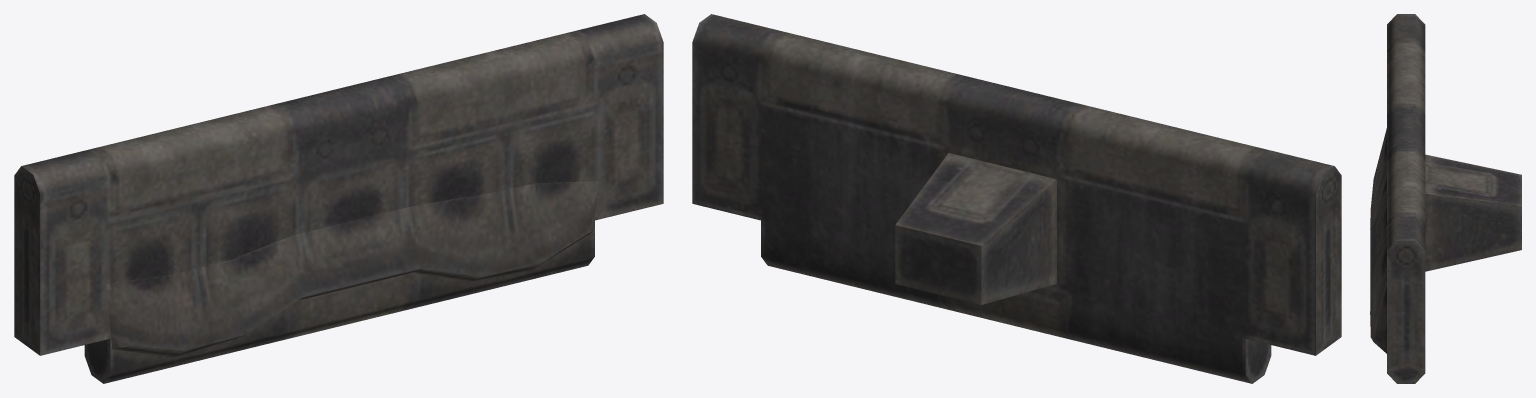
The picture shows the model from 3 angles, left to right: view 1: azimuth 30°, elevation 25°; view 2: azimuth 150°, elevation 25°; view 3: azimuth 270°, elevation 25°; orthographic projection. The views are drawn at different scales.
Visible parts, largest first — view 1: set_0_group_0; view 2: set_0_group_0; view 3: set_0_group_0.
Part boxes in pixels (left/top/right/bottom): set_0_group_0: left=14, top=14, right=663, bottom=383; set_0_group_0: left=692, top=14, right=1341, bottom=383; set_0_group_0: left=1370, top=14, right=1521, bottom=383.
Size of the model in its own units: 0.5867 by 0.2033 by 0.166.
1 material, 1 textured.
